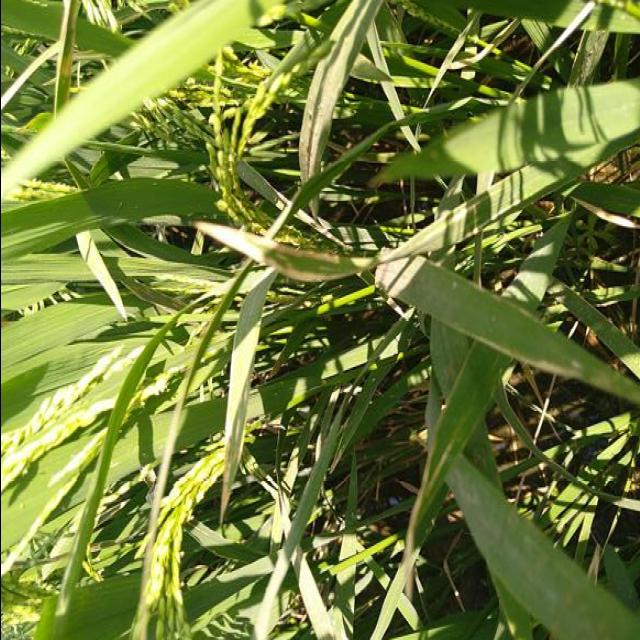Leaf Streak: (192, 189, 489, 280), (453, 327, 640, 404), (402, 432, 459, 581), (219, 358, 251, 530), (450, 273, 542, 324)
